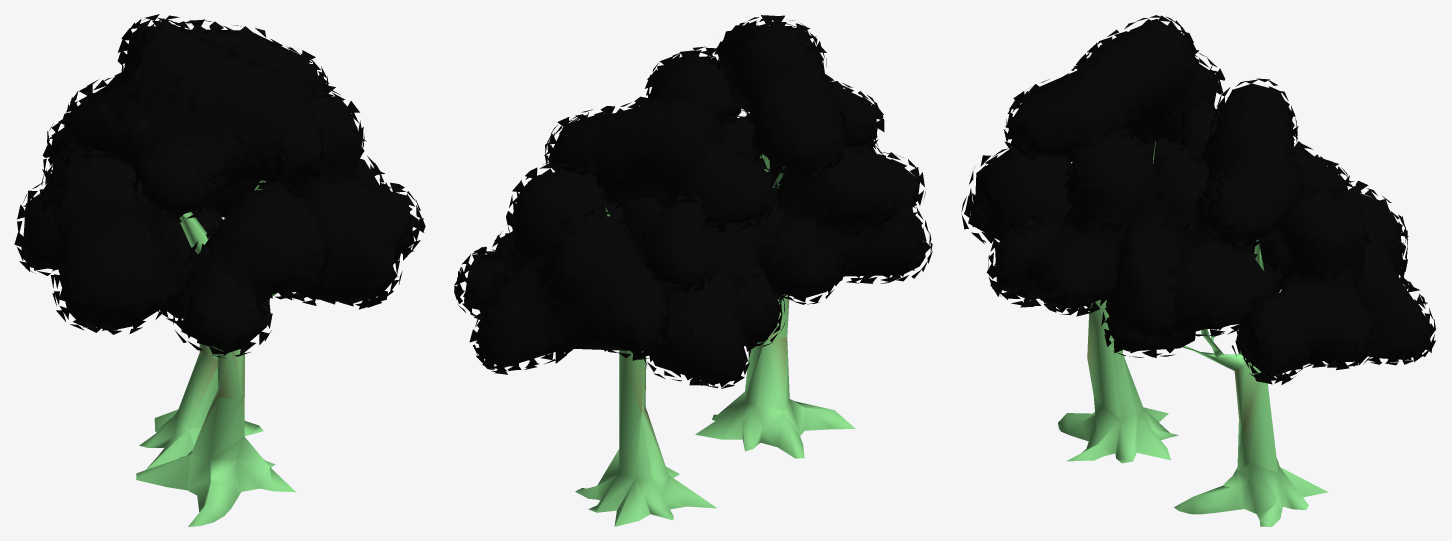
The model's file is SM_ENV_LKNVLD_Tree_D_Lod3.gltf.
3 views of the same model, side by side, from view 1: azimuth 30°, elevation 25°; view 2: azimuth 150°, elevation 25°; view 3: azimuth 270°, elevation 25° (orthographic). The views are drawn at different scales.
Parts seen in each view (by area): view 1: SM_ENV_LKNVLD_Tree_D_Lod3; view 2: SM_ENV_LKNVLD_Tree_D_Lod3; view 3: SM_ENV_LKNVLD_Tree_D_Lod3.
Part boxes in pixels (x1,y1,x2,y2): SM_ENV_LKNVLD_Tree_D_Lod3: (14, 14, 425, 526); SM_ENV_LKNVLD_Tree_D_Lod3: (454, 15, 932, 526); SM_ENV_LKNVLD_Tree_D_Lod3: (961, 15, 1435, 526).
Size of the model in its own units: 12 by 14.84 by 14.26.
